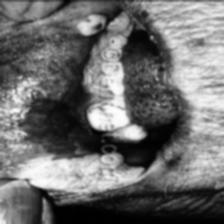Potentially Malignant Skin Tumors: (32, 158, 94, 192), (80, 12, 102, 31), (110, 21, 133, 39), (120, 158, 132, 182)
